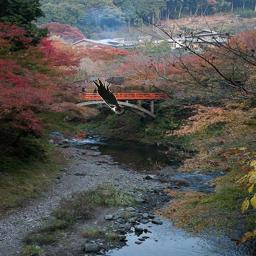Crow: (91, 77, 124, 114)
